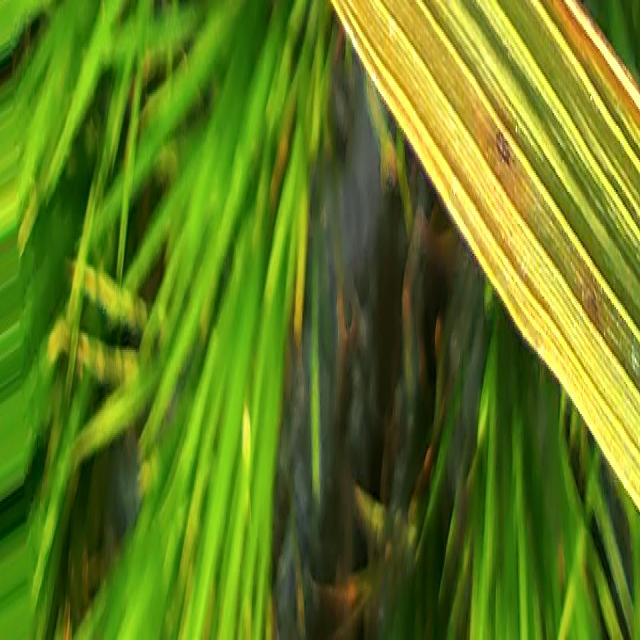LEAF BLAST: (495, 130, 510, 166)
